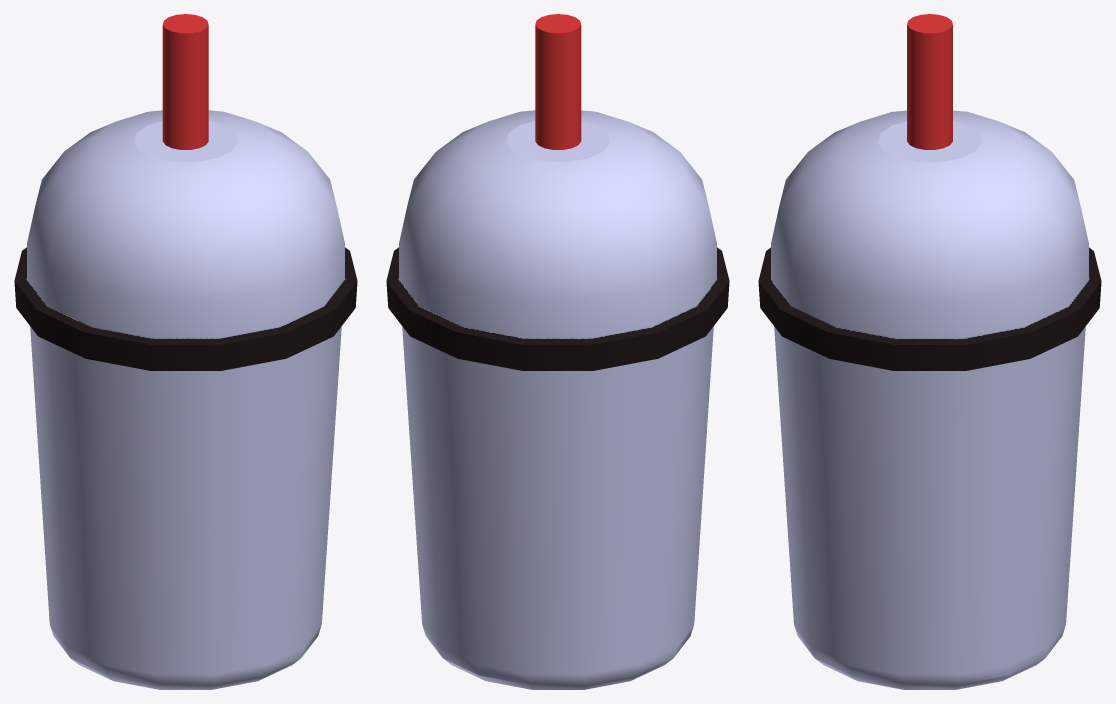
Rendered from tra sua.fbx.
The picture shows the model from 3 angles, left to right: view 1: azimuth 30°, elevation 25°; view 2: azimuth 150°, elevation 25°; view 3: azimuth 270°, elevation 25°; orthographic projection.
Parts seen in each view (by area): view 1: polySurface15, polySurface18; view 2: polySurface15, polySurface18; view 3: polySurface15, polySurface18.
Part boxes in pixels (x1,y1,x2,y2): polySurface15: [27, 110, 344, 689]; polySurface18: [14, 14, 357, 370]; polySurface15: [399, 110, 716, 689]; polySurface18: [386, 14, 729, 370]; polySurface15: [771, 110, 1088, 689]; polySurface18: [758, 14, 1101, 370].
Size of the model in its own units: 72 by 144 by 72.4.
Materials: 2 (2 with a texture image).
